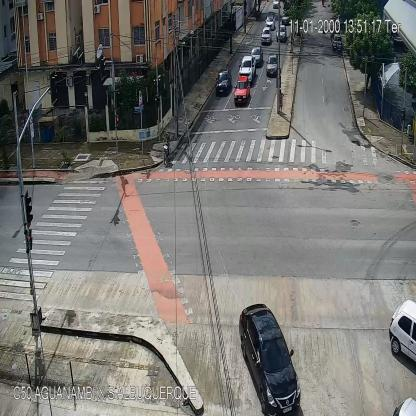bicycle: (164, 130, 172, 165)
car: (238, 304, 300, 416), (389, 295, 415, 359), (215, 68, 232, 94), (234, 77, 250, 104), (239, 57, 256, 82), (266, 55, 277, 78), (251, 47, 262, 69), (260, 27, 270, 46), (265, 12, 275, 30), (278, 25, 288, 42), (332, 35, 341, 50), (272, 1, 280, 10)
motorbike: (335, 42, 339, 56)
person: (322, 24, 327, 38)
